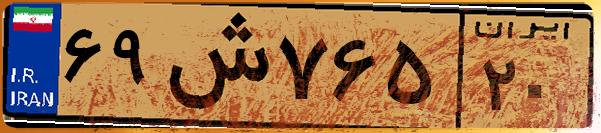0: (525, 38, 570, 115)
2: (475, 38, 525, 113)
5: (385, 28, 445, 110)
6: (330, 28, 385, 110), (57, 26, 110, 100)
7: (270, 28, 330, 110)
9: (110, 28, 158, 98)
ش: (158, 12, 270, 120)
